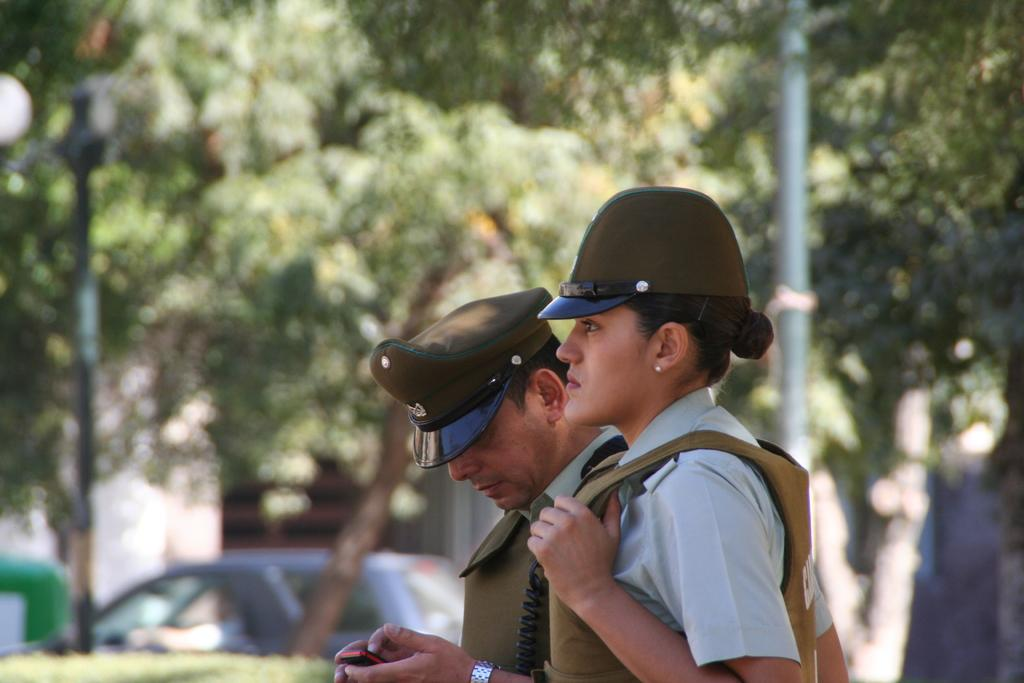Hat: (368, 288, 558, 471), (534, 183, 752, 322)
